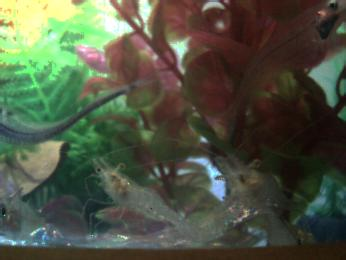X-ray fish: (1, 188, 47, 234)
glassfish: (221, 1, 346, 122), (1, 68, 154, 144)
siberian prawn: (88, 155, 205, 240), (218, 150, 311, 230)
